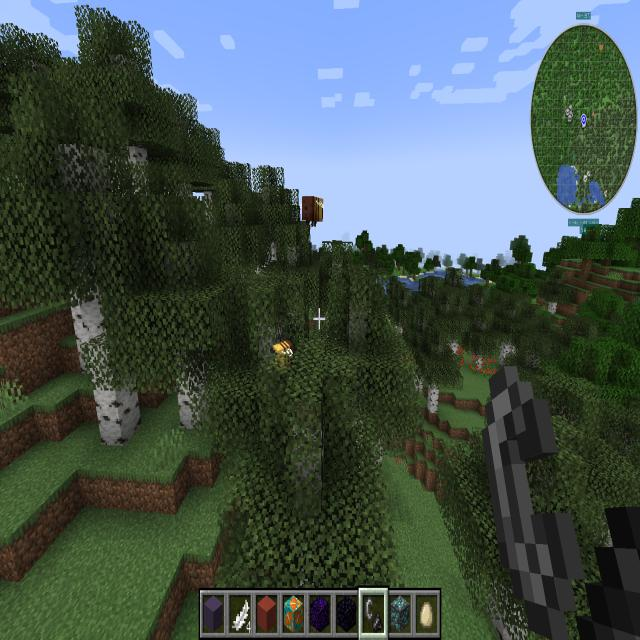bee: (299, 190, 327, 228), (272, 338, 296, 372)
